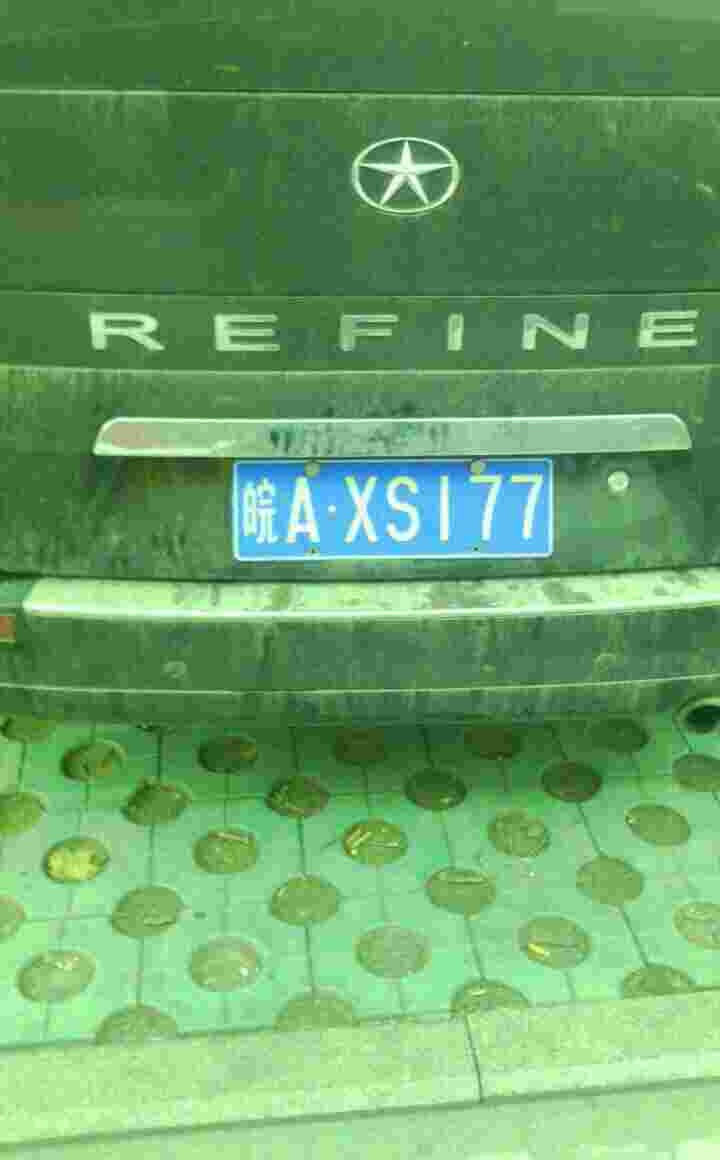license_plate: (235, 464, 542, 564)
